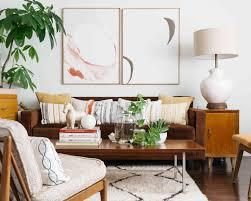chair: (0, 119, 106, 201)
light: (190, 21, 244, 111)
sofa: (22, 90, 193, 139)
table: (56, 140, 205, 192), (193, 106, 242, 172), (230, 130, 251, 193), (0, 91, 19, 120)
